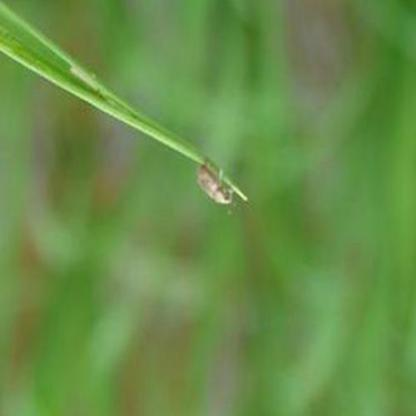rice-bug: (194, 163, 236, 207)
